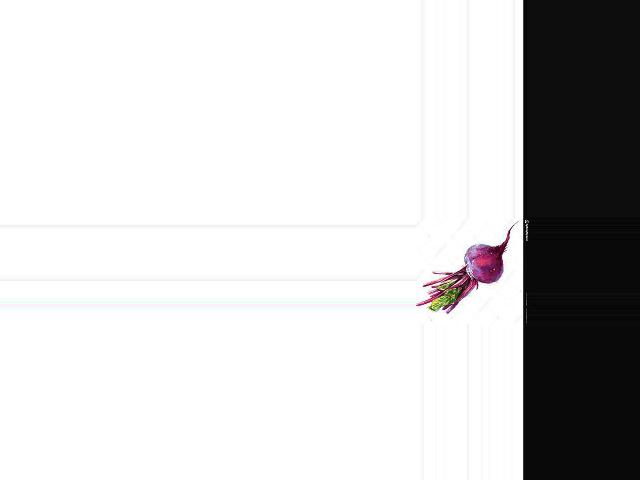beet: (415, 221, 518, 313)
